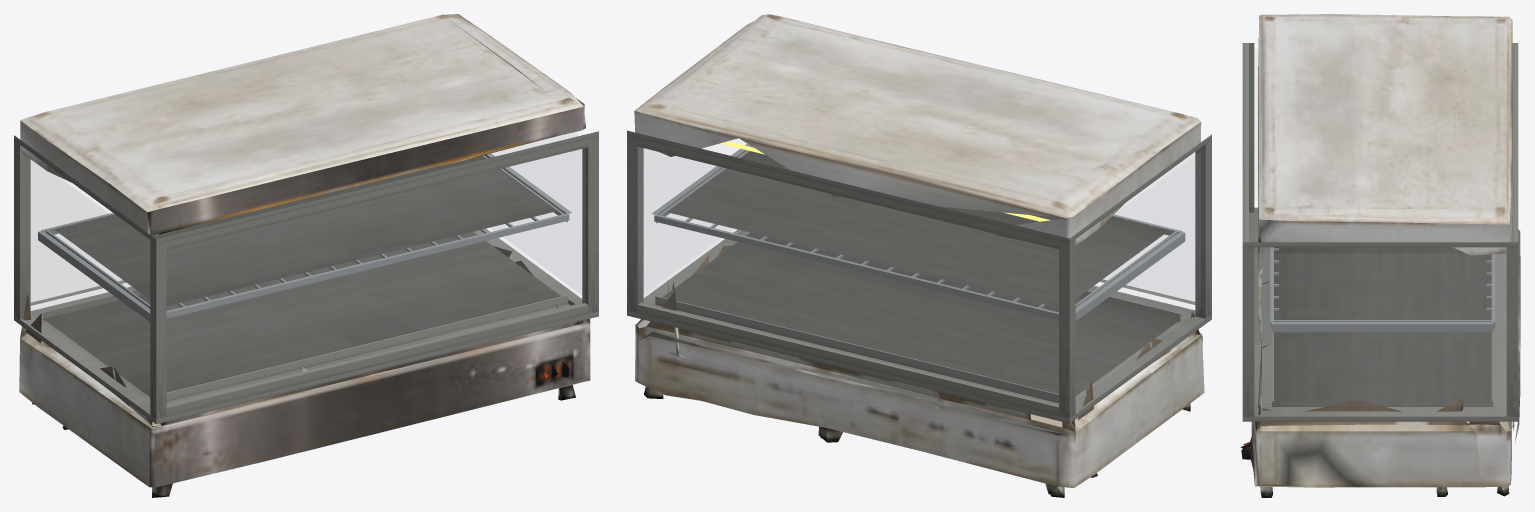
File: shop-display-open.glb
3 renders of one model, left to right at view 1: azimuth 30°, elevation 25°; view 2: azimuth 150°, elevation 25°; view 3: azimuth 270°, elevation 25°, orthographic. The views are drawn at different scales.
Visible parts, largest first — view 1: body, interior, glass; view 2: body, interior, glass; view 3: body, interior.
Boxes of the visible parts, left/top/right/bottom form: body: left=19, top=14, right=590, bottom=497; interior: left=14, top=131, right=598, bottom=424; glass: left=30, top=149, right=582, bottom=305; body: left=634, top=14, right=1204, bottom=497; interior: left=627, top=130, right=1211, bottom=423; glass: left=643, top=148, right=1195, bottom=304; body: left=1241, top=14, right=1520, bottom=497; interior: left=1242, top=43, right=1518, bottom=421.
Bounding box in the file's own units: 1.1 × 0.7 × 0.62.
3 materials, 2 textured.
